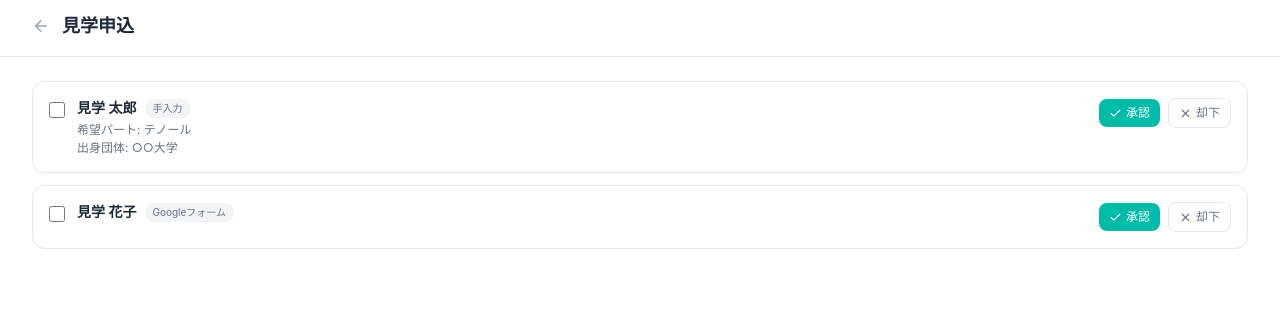
Test: VisitorApplicationsPage › 承認に失敗した場合はエラーメッセージを表示する
Expected: the text "見学 太郎" is shown, [77,98,136,118]
Click the button "承認" in the row of "テノール".
click(1130, 113)  # box [1099,99,1160,127]
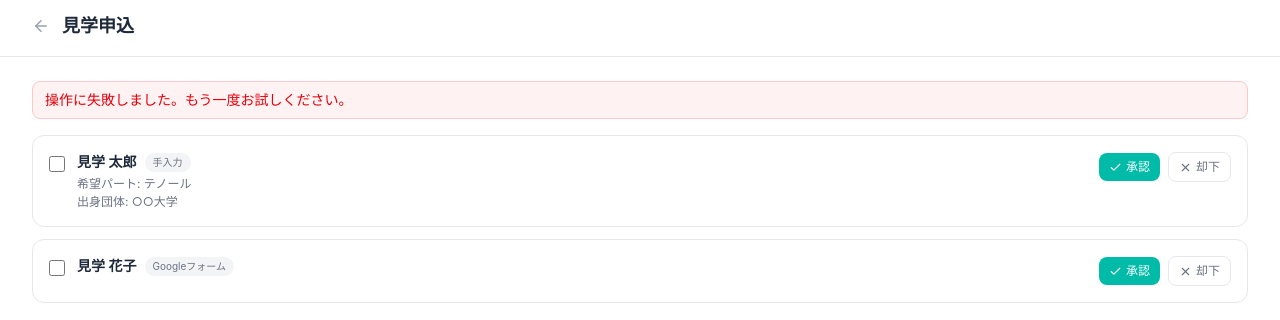
Expected: the text "見学 太郎" is shown, [77,152,136,172]
Result: the message reads "操作に失敗しました。もう一度お試しください。" at [45,91,353,108]
